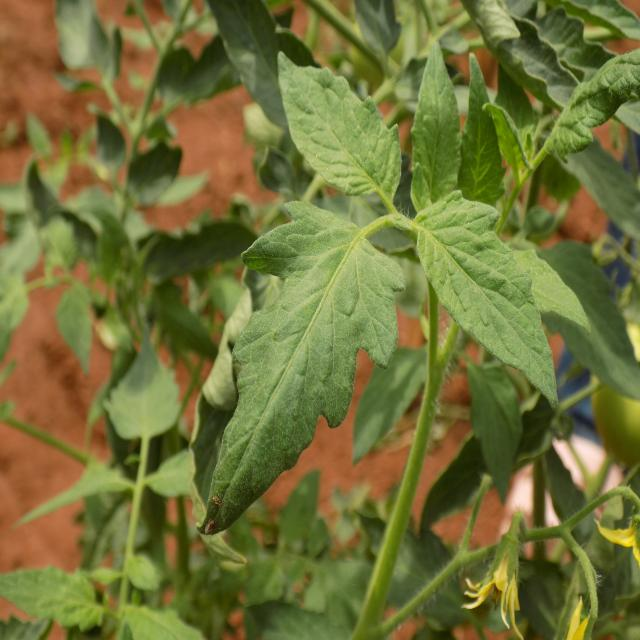tomato_healthy: (205, 210, 404, 537), (419, 202, 559, 406), (275, 48, 406, 199)
